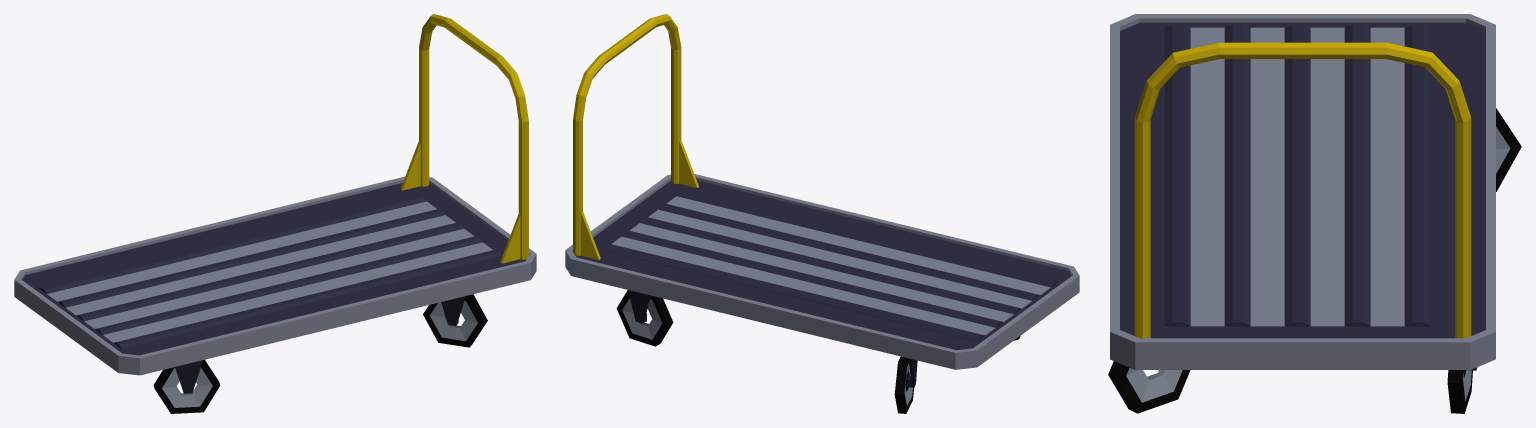
File: Chariot.fbx
3 views of the same model, side by side, from view 1: azimuth 30°, elevation 25°; view 2: azimuth 150°, elevation 25°; view 3: azimuth 270°, elevation 25° (orthographic). The views are drawn at different scales.
Parts seen in each view (by area): view 1: Chariot; view 2: Chariot; view 3: Chariot.
Boxes of the visible parts, x1,y1,x2,y2 form: Chariot: (14, 14, 536, 413); Chariot: (565, 14, 1079, 413); Chariot: (1108, 14, 1521, 413).
Size of the model in its own units: 219 by 128 by 117.
